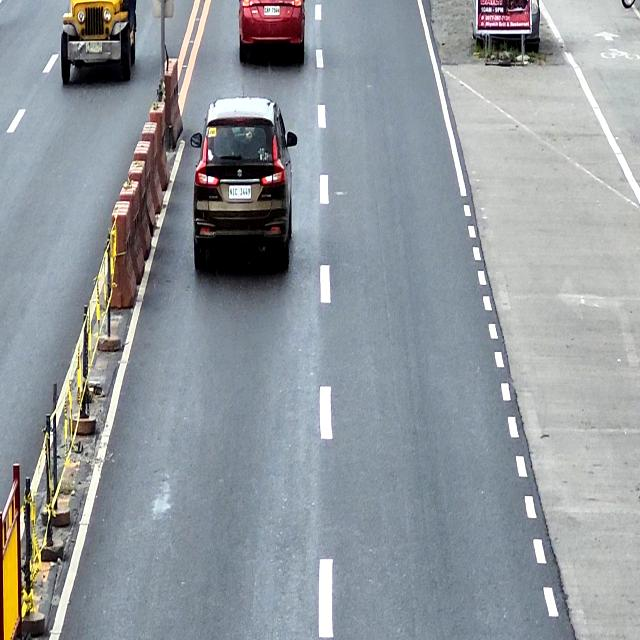Car: (191, 98, 298, 274), (238, 0, 305, 65)
Jeep: (62, 0, 136, 83)
License-Plate: (228, 185, 252, 199), (84, 41, 103, 54), (264, 6, 281, 16)
